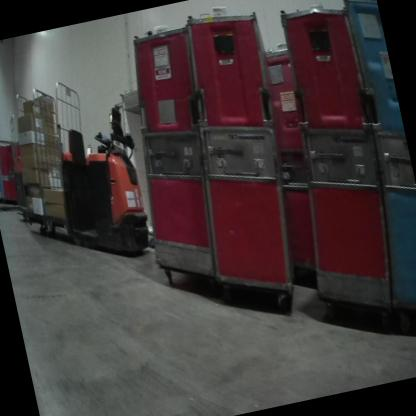pallet_truck: (0, 89, 160, 279)
